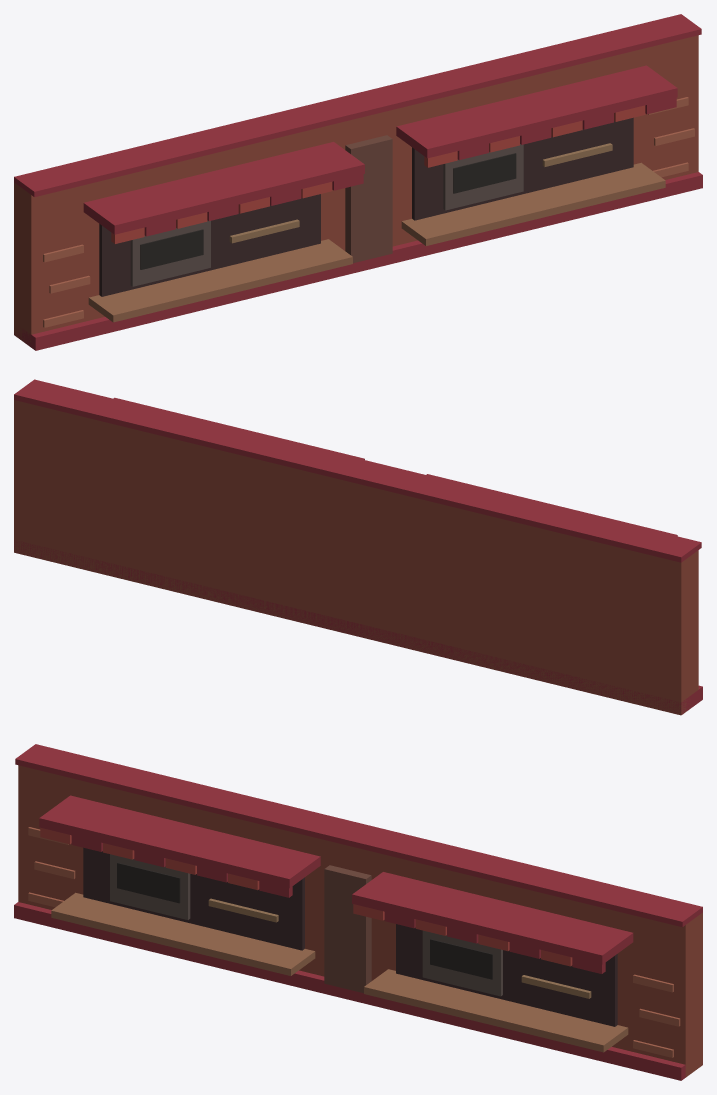
Rendered from PZ_WallA.glb.
3 views of the same model, one above another, from view 1: azimuth 30°, elevation 25°; view 2: azimuth 150°, elevation 25°; view 3: azimuth 330°, elevation 25° (orthographic).
Visible parts, largest first — view 1: PZ_WallA; view 2: PZ_WallA; view 3: PZ_WallA.
Part boxes in pixels (left/top/right/bottom): PZ_WallA: left=14, top=14, right=702, bottom=350; PZ_WallA: left=14, top=379, right=702, bottom=715; PZ_WallA: left=14, top=744, right=702, bottom=1080.
Size of the model in its own units: 64 by 14.5 by 8.05.
1 material, 1 textured.
